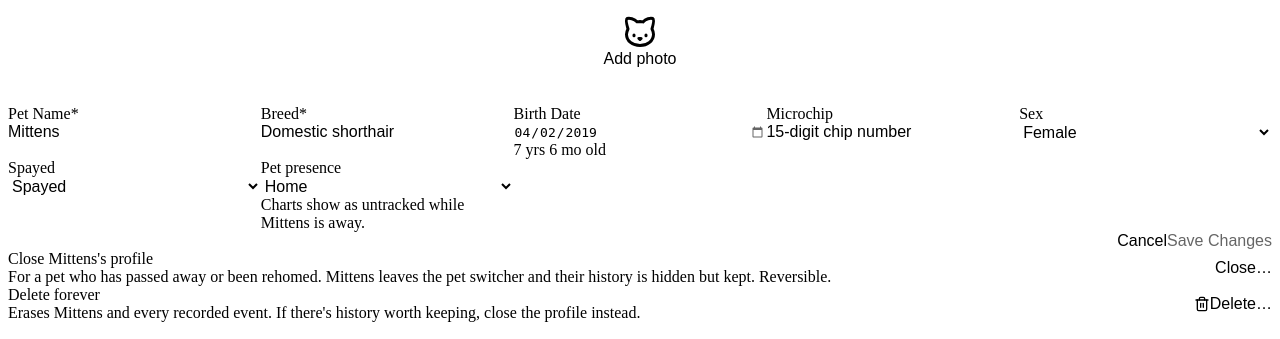
PetForm › names the altered field after the pet’s sex
Expected: the dropdown labelled "Spayed" is shown, top-left (8, 177), bottom-right (261, 196)
Select "Male" in the dropdown labelled "Sex" at x=1146, y=132, box top-left (1019, 123), bottom-right (1272, 142)
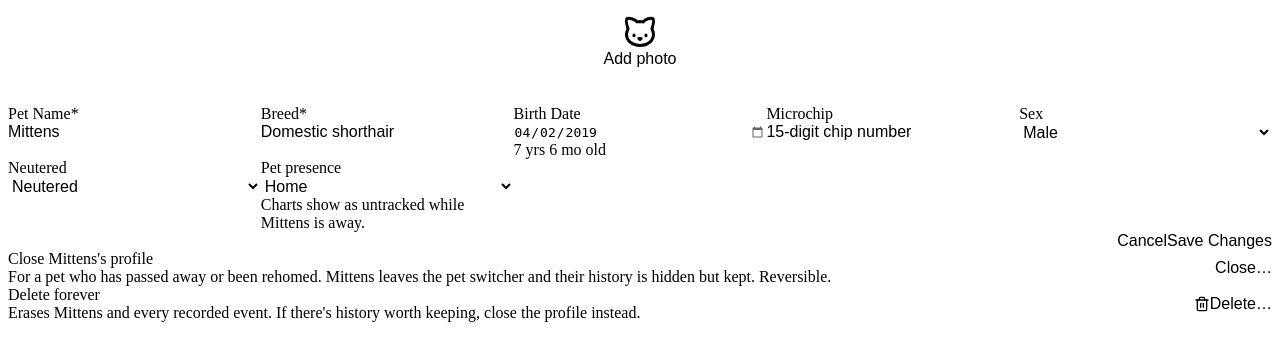
Expected: the dropdown labelled "Neutered" is shown, top-left (8, 177), bottom-right (261, 196)
